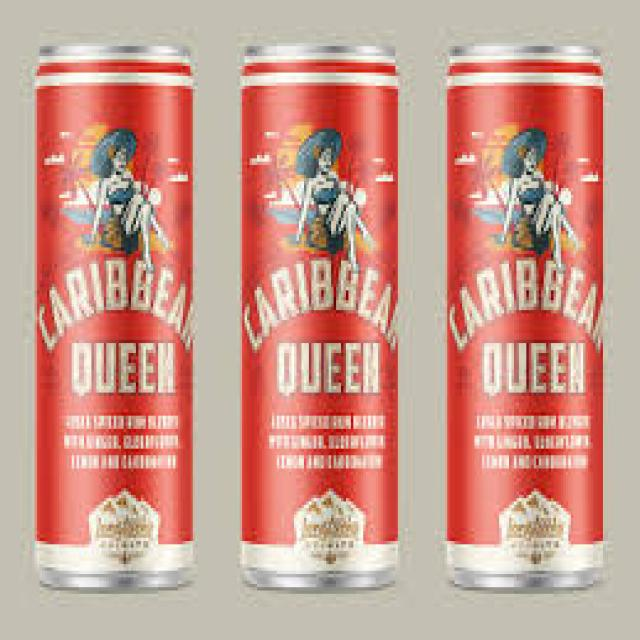Cans: (433, 27, 625, 600), (22, 30, 208, 600), (230, 26, 408, 604)
